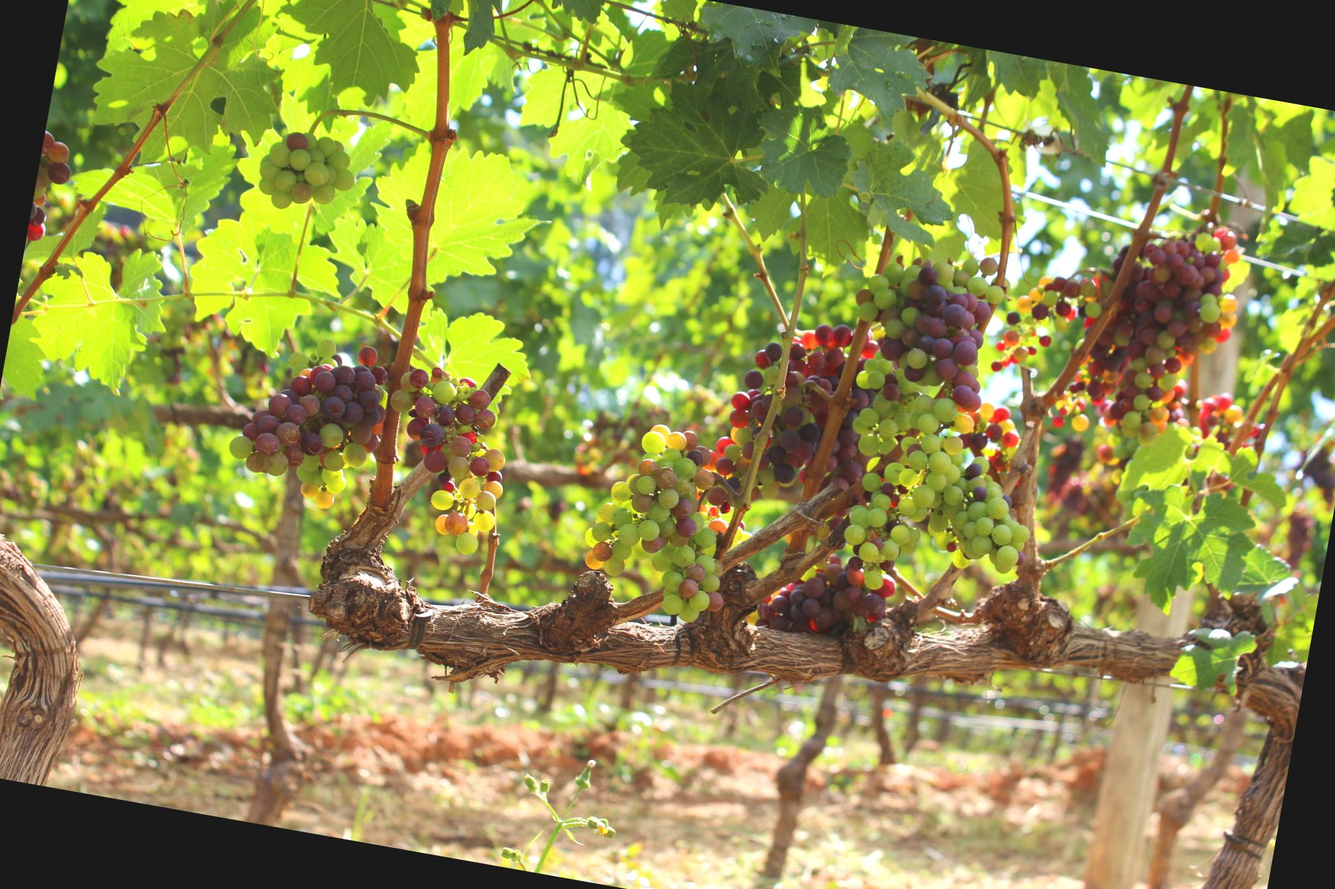Grape Unripe: (572, 412, 758, 628), (830, 383, 976, 602), (839, 235, 1015, 414), (367, 360, 521, 557), (934, 458, 1040, 579), (250, 126, 362, 220)
